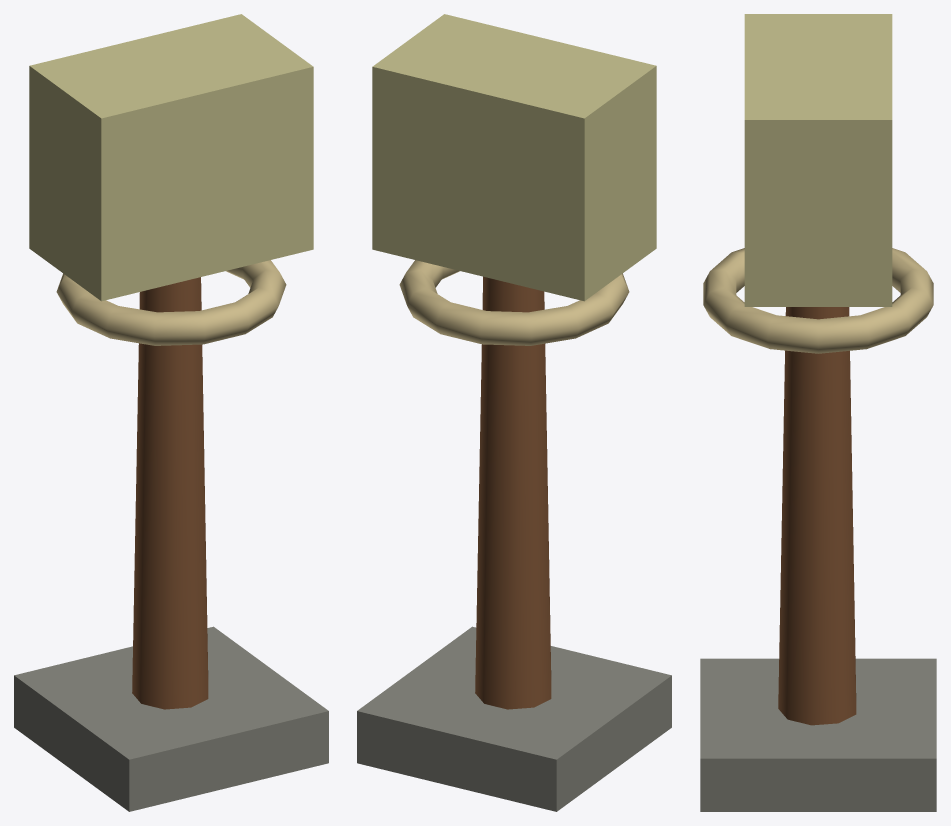
The model's file is easel.glb.
3 views of the same model, side by side, from view 1: azimuth 30°, elevation 25°; view 2: azimuth 150°, elevation 25°; view 3: azimuth 270°, elevation 25° (orthographic). The views are drawn at different scales.
Visible parts, largest first — view 1: head, base, post, detail_ring; view 2: head, base, post, detail_ring; view 3: head, base, post, detail_ring.
Boxes of the visible parts, x1=… form: head: x1=29, y1=14, x2=313, y2=301; base: x1=14, y1=626, x2=328, y2=811; post: x1=132, y1=277, x2=208, y2=709; detail_ring: x1=56, y1=260, x2=286, y2=345; head: x1=372, y1=14, x2=656, y2=301; base: x1=357, y1=626, x2=671, y2=811; post: x1=475, y1=276, x2=551, y2=709; detail_ring: x1=399, y1=260, x2=629, y2=345; head: x1=744, y1=14, x2=892, y2=306; base: x1=700, y1=658, x2=936, y2=811; post: x1=778, y1=307, x2=856, y2=725; detail_ring: x1=703, y1=248, x2=933, y2=353.
Size of what is drawn, in the model's own units: 0.85 by 2.6 by 0.8.
